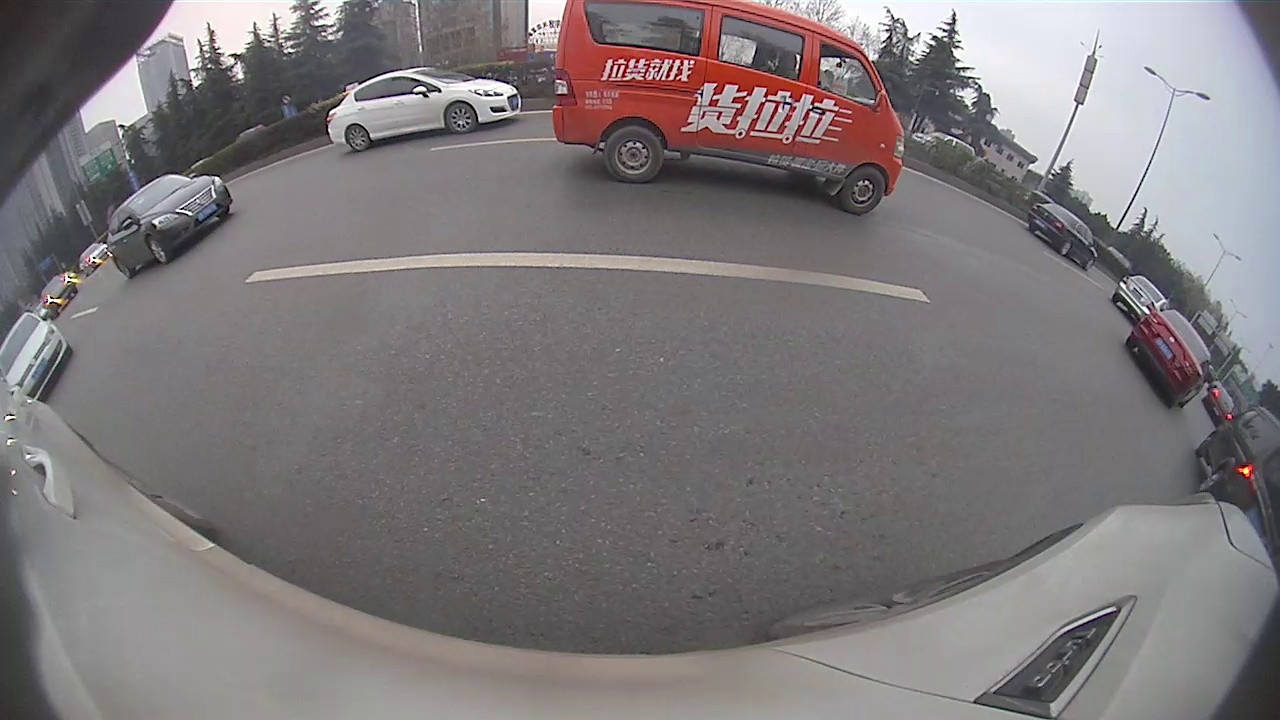car: (553, 2, 908, 216), (325, 64, 524, 154), (106, 174, 234, 278), (1195, 405, 1278, 564), (1121, 308, 1212, 411), (2, 312, 72, 405), (1029, 202, 1100, 271), (1111, 273, 1167, 322)
front: (840, 167, 887, 216), (444, 101, 478, 135), (147, 235, 169, 267)
rear: (603, 125, 665, 184), (345, 124, 370, 154), (114, 255, 134, 280)
